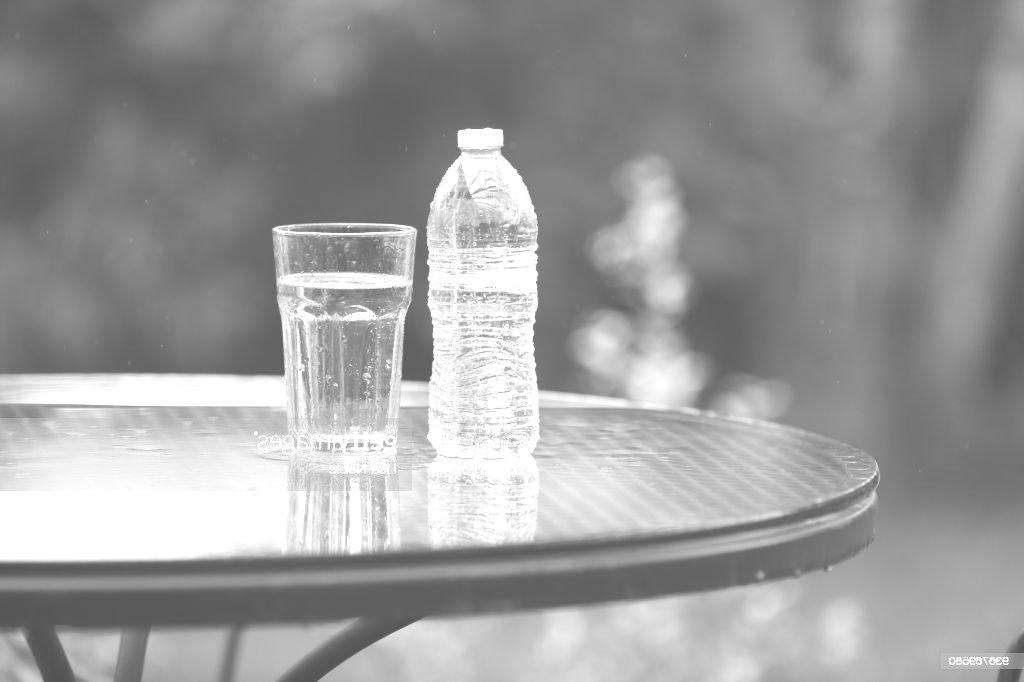bottle: (422, 117, 548, 463)
